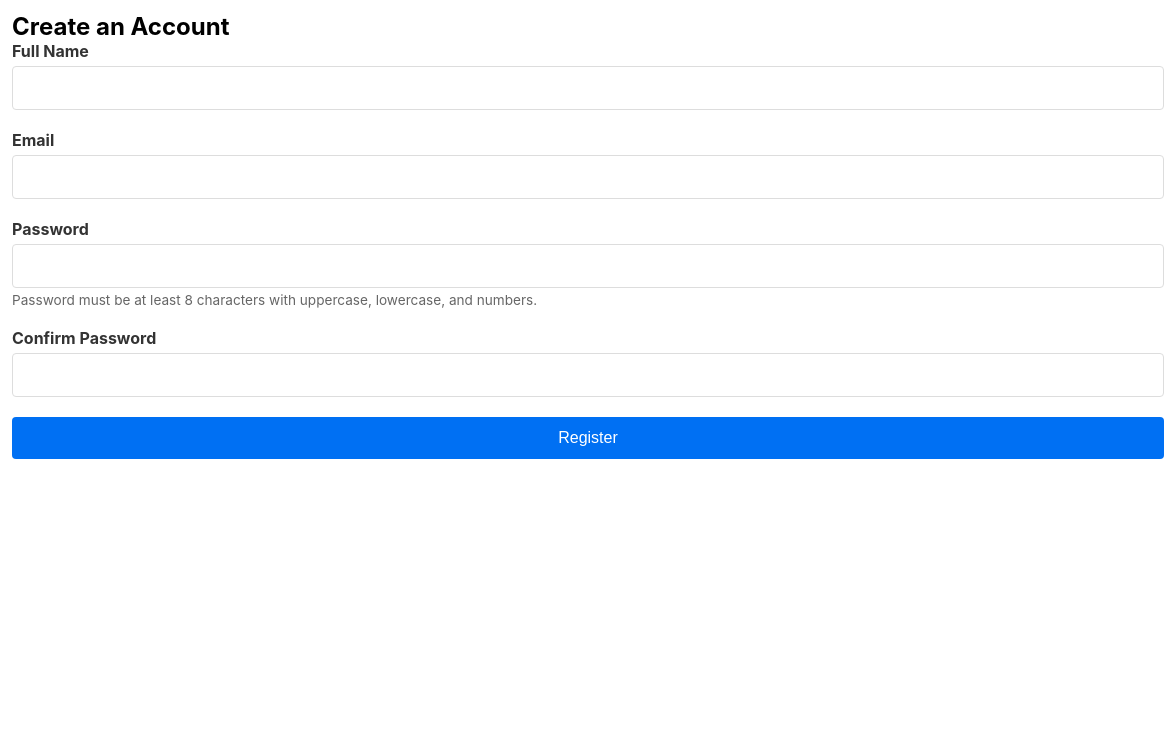
Test: RegisterForm Component › shows error when passwords do not match
Fill the form with non-matching passwords
Type "John Doe" into the field labelled "Full Name" at point(588, 88), box [12,66,1164,110]
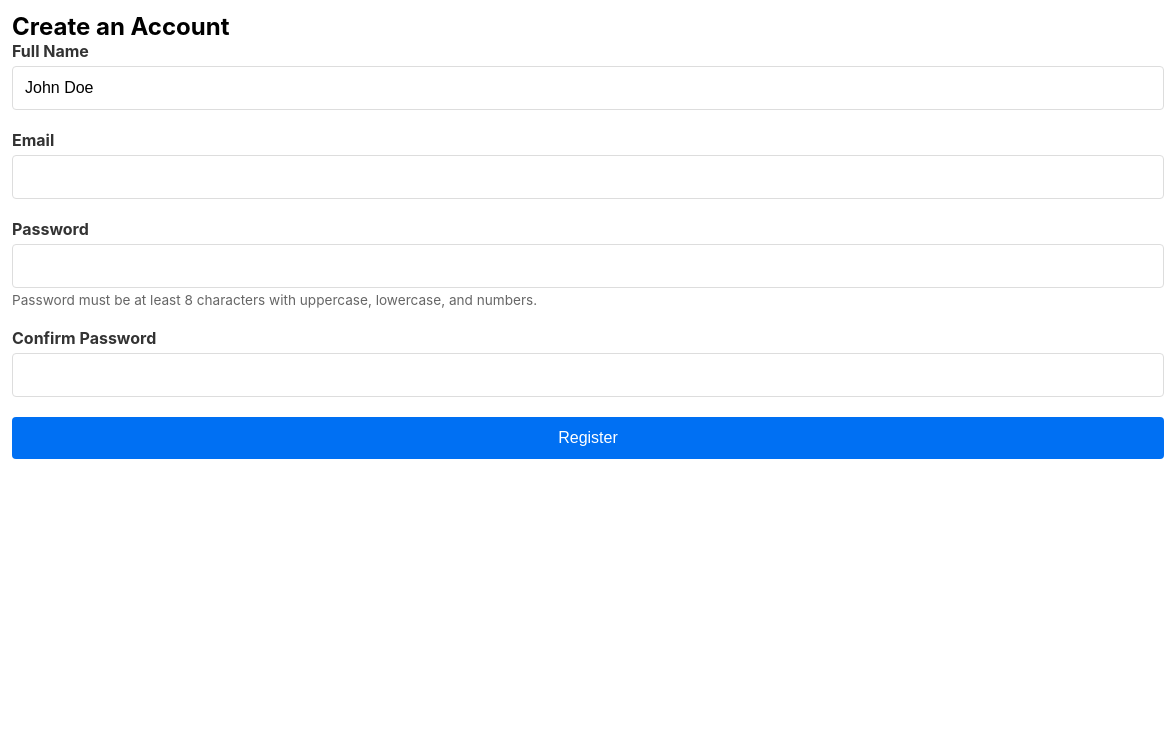
Type "john@example.com" into the field labelled "Email" at point(588, 177), box [12,155,1164,199]
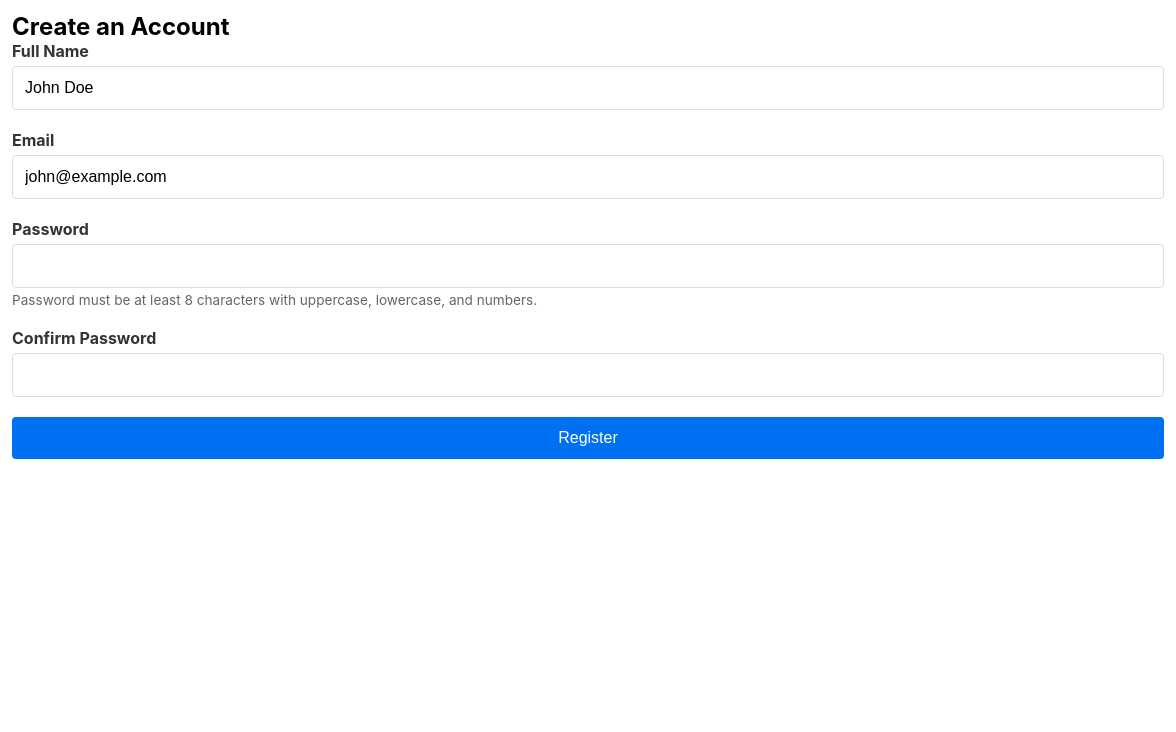
Type "Password123" into the password field labelled "Password" at point(588, 266), box [12,244,1164,288]
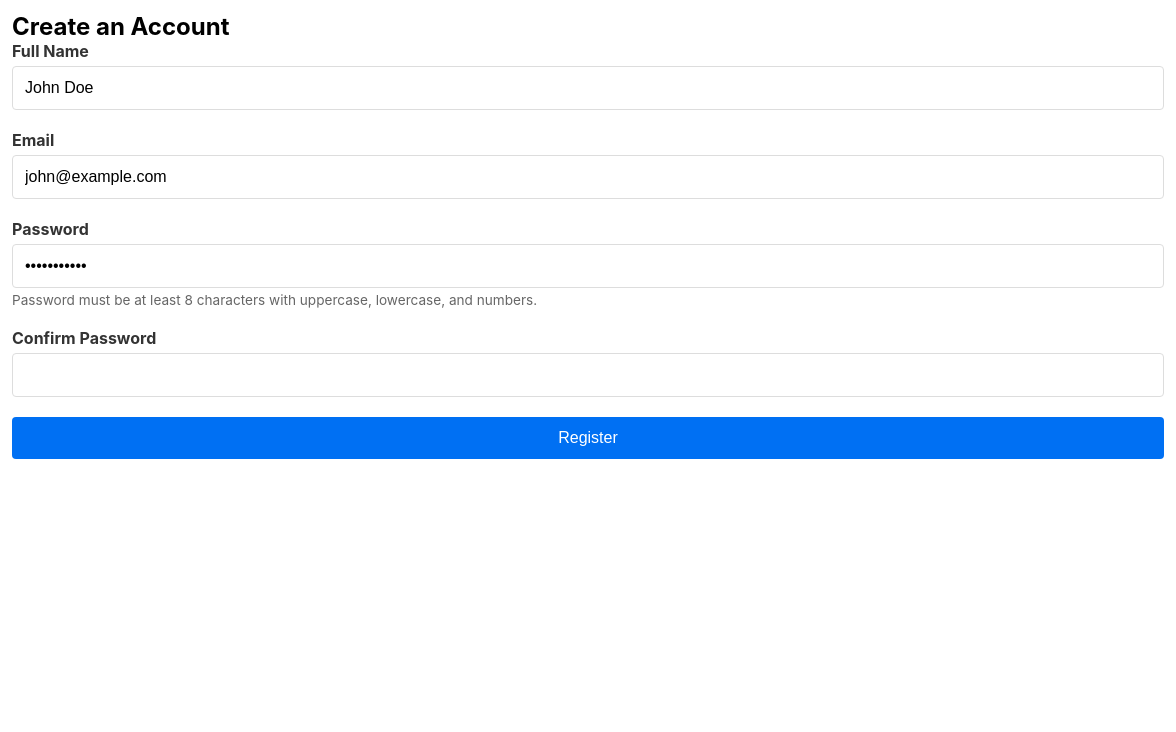
Type "Password456" into the password field labelled "Confirm Password" at point(588, 375), box [12,353,1164,397]
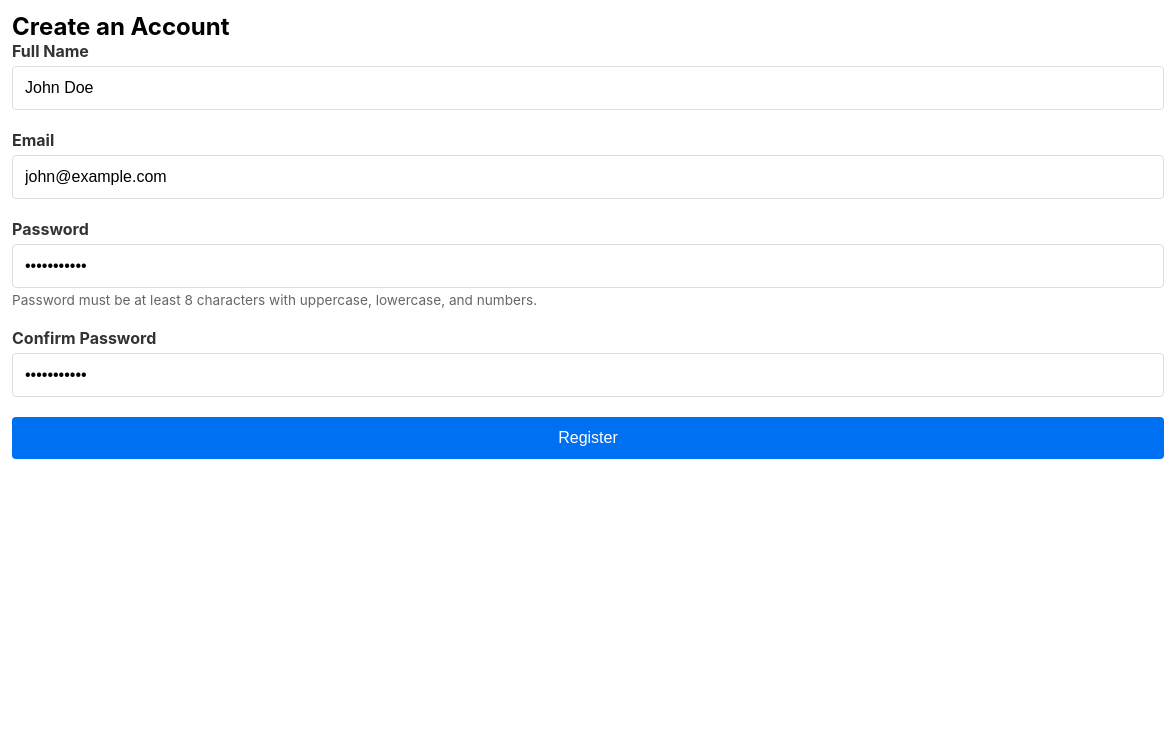
Submit the form
Click the button "Register" at point(588, 438), box [12,417,1164,459]
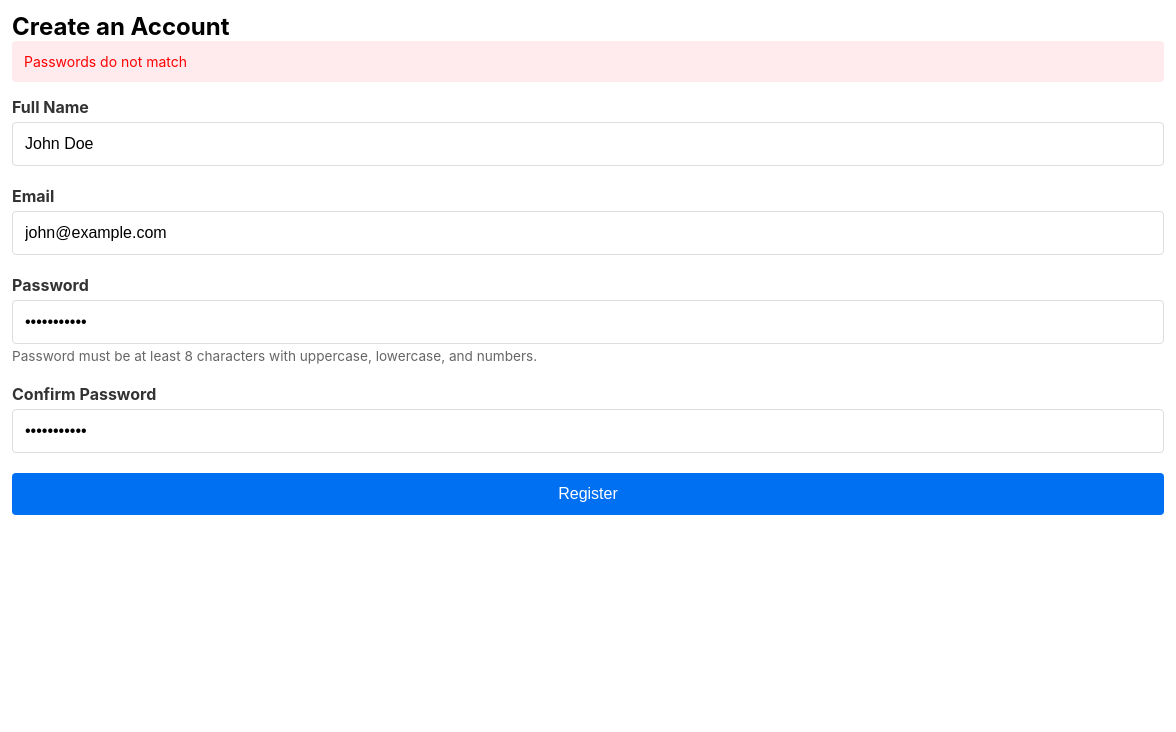
Check: the text "Passwords do not match" is shown, box [12,41,1164,82]
